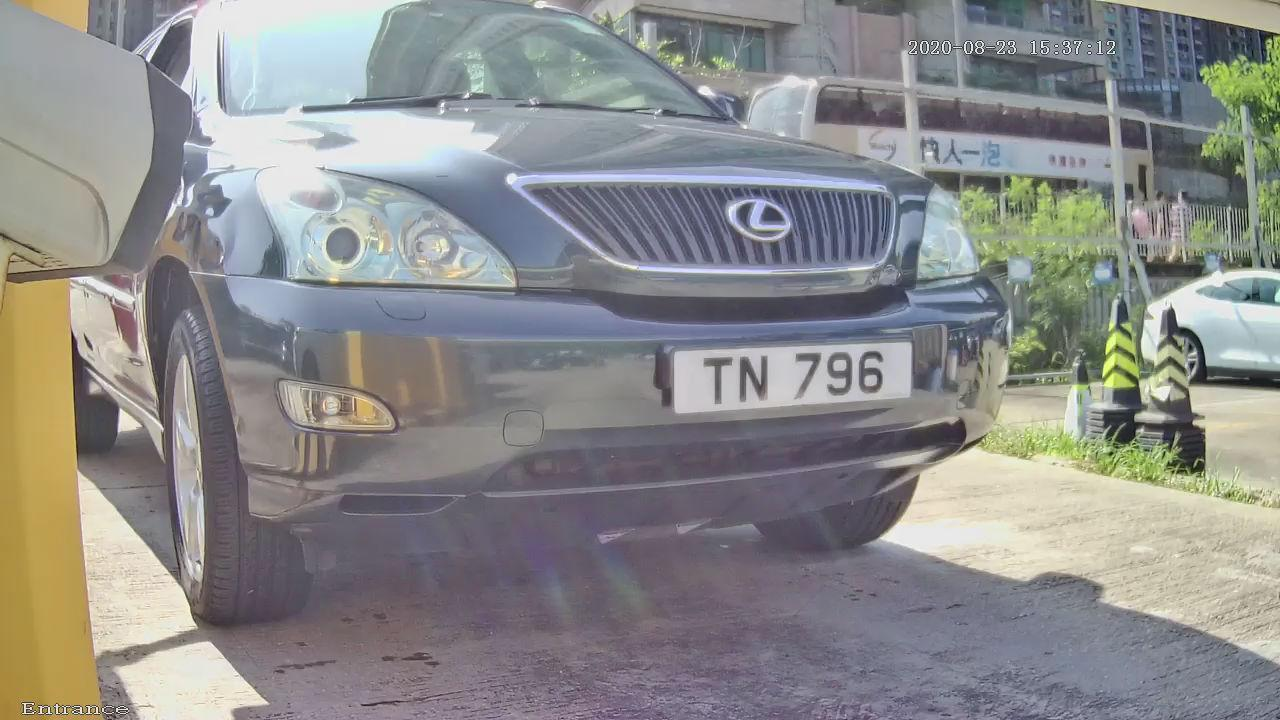Car: (46, 4, 1098, 634)
License Plate: (646, 325, 932, 431)
